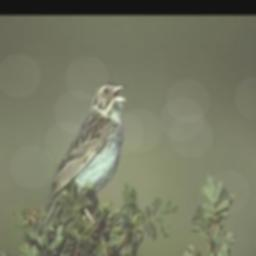Sparrow: (37, 72, 128, 242)
